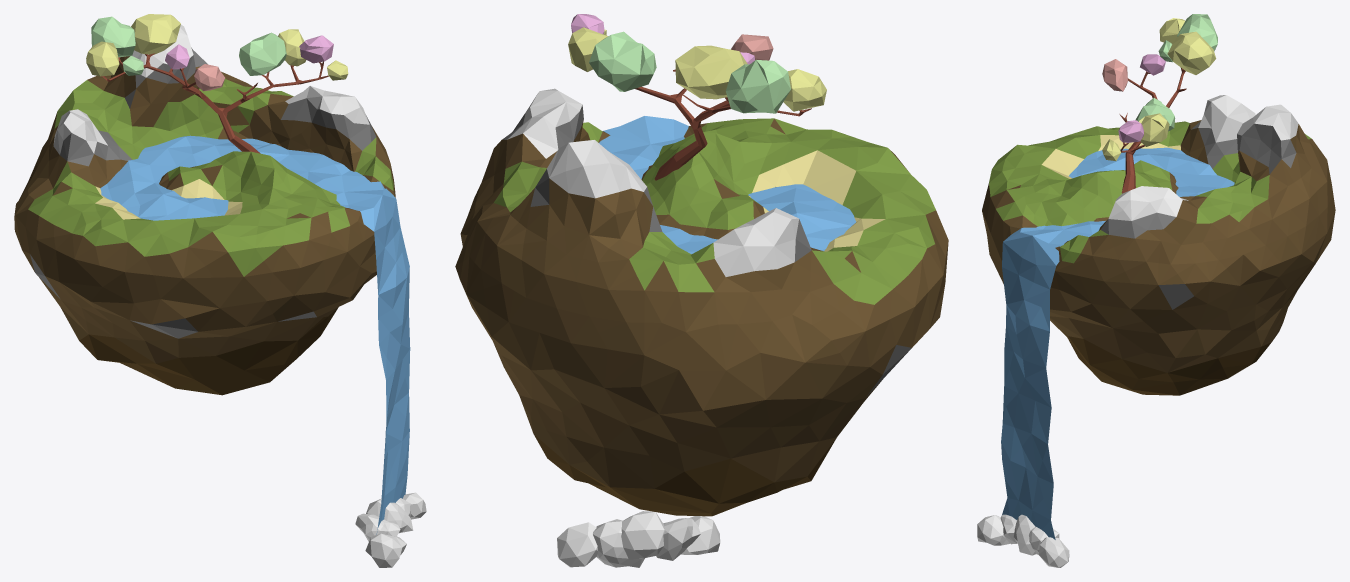
The model's file is big_island.glb.
3 views of the same model, side by side, from view 1: azimuth 30°, elevation 25°; view 2: azimuth 150°, elevation 25°; view 3: azimuth 270°, elevation 25° (orthographic). The views are drawn at different scales.
Visible parts, largest first — view 1: island, water, water catch; view 2: island, water, water catch; view 3: island, water, water catch.
Boxes of the visible parts, x1=… form: island: x1=14, y1=14, x2=395, y2=395; water: x1=100, y1=135, x2=410, y2=534; water catch: x1=355, y1=492, x2=426, y2=567; island: x1=455, y1=14, x2=948, y2=516; water: x1=599, y1=116, x2=855, y2=254; water catch: x1=557, y1=511, x2=720, y2=567; island: x1=982, y1=14, x2=1335, y2=395; water: x1=1001, y1=147, x2=1234, y2=539; water catch: x1=977, y1=514, x2=1069, y2=567.
Bounding box in the file's own units: 19.87 × 28.37 × 20.23.
